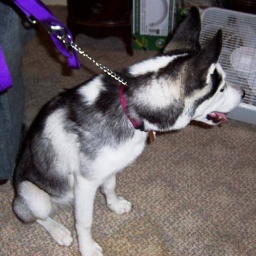dog: (15, 40, 245, 249)
